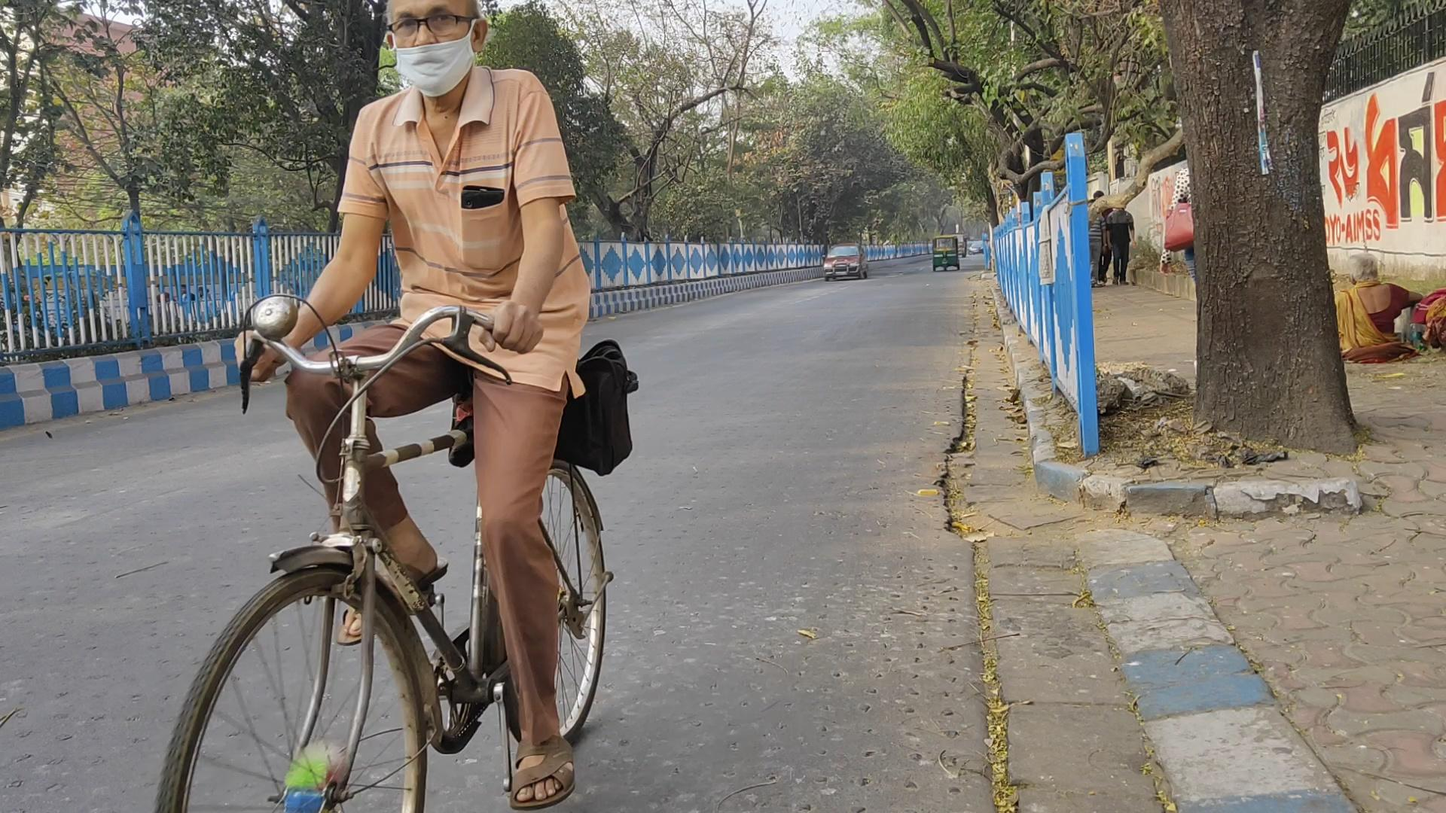Auto: (931, 235, 960, 273)
bike: (139, 2, 636, 809)
car: (823, 242, 871, 285)
